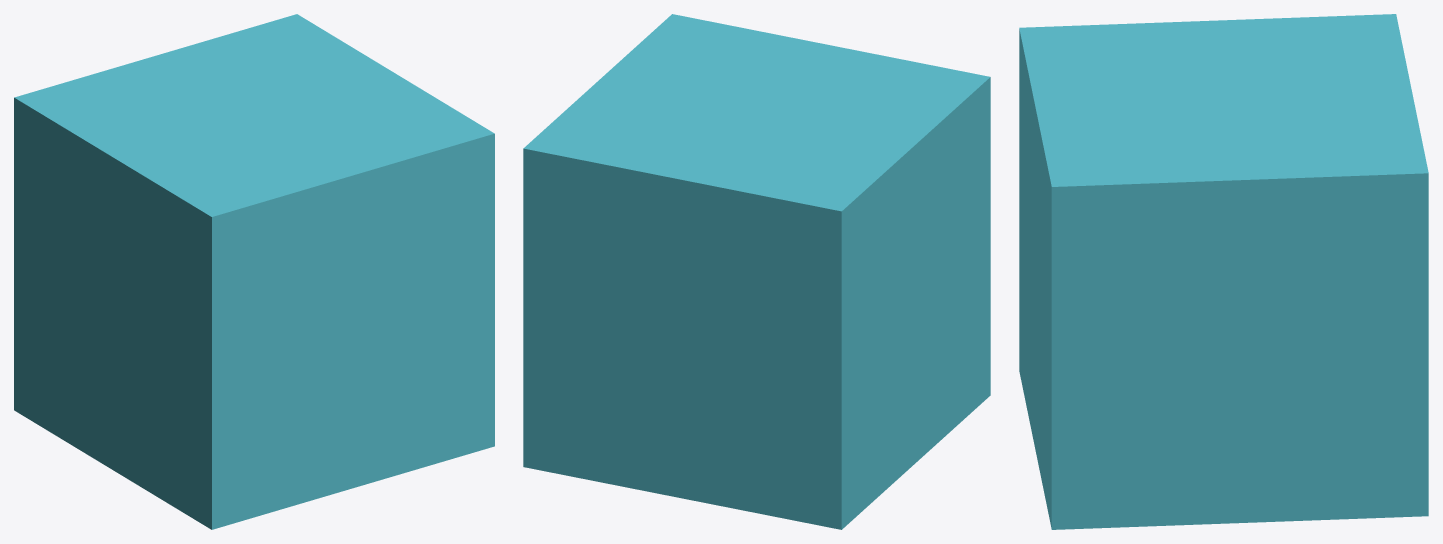
File: 648_chimney.glb
The picture shows the model from 3 angles, left to right: view 1: azimuth 30°, elevation 25°; view 2: azimuth 150°, elevation 25°; view 3: azimuth 270°, elevation 25°; orthographic projection. The views are drawn at different scales.
Parts seen in each view (by area): view 1: Box002; view 2: Box002; view 3: Box002.
Part boxes in pixels (<box>): Box002: <box>14,14,494,529</box>; Box002: <box>523,14,990,529</box>; Box002: <box>1019,14,1428,529</box>.
Bounding box in the file's own units: 0.8986 × 0.8302 × 0.8986.
